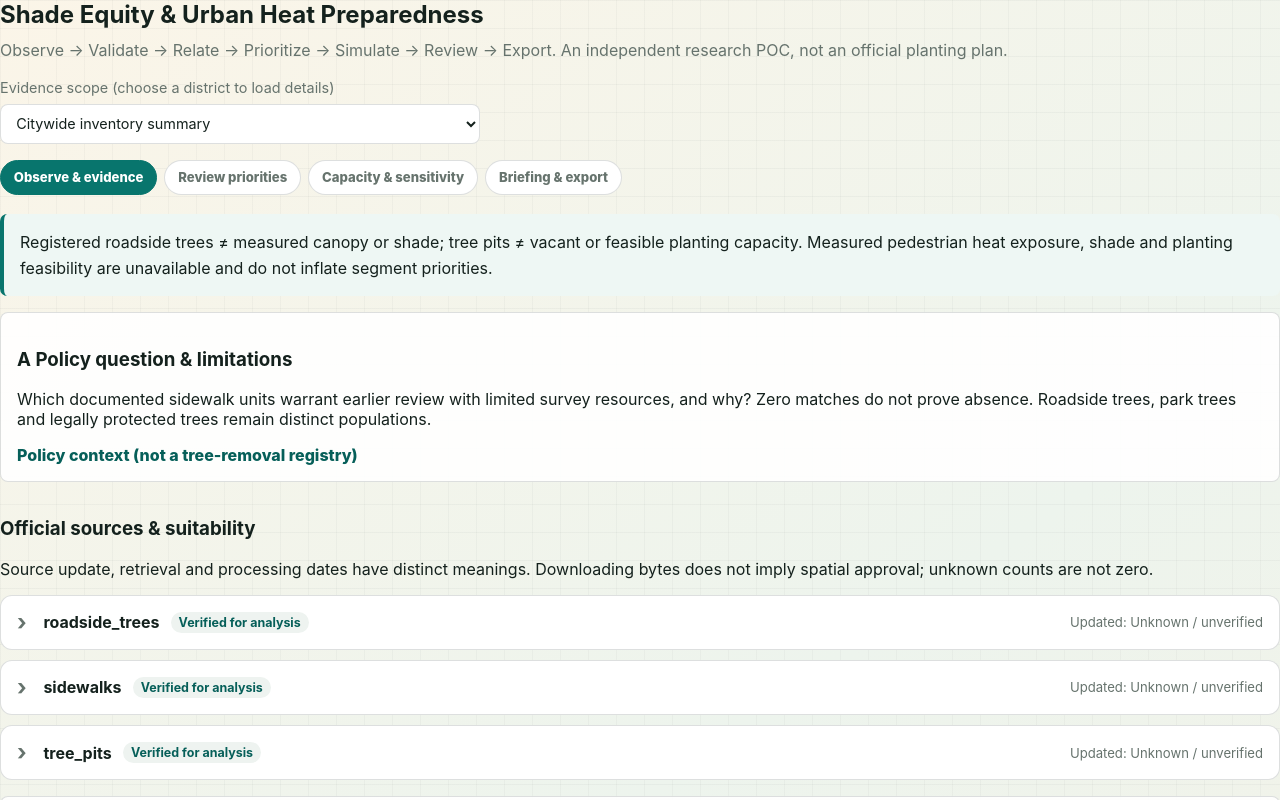
shade equity dashboard › shows ten review units after applying capacity ten
This screenshot has width=1280, height=800.
Click the button "Review priorities": (233, 177) [164,160,301,195]
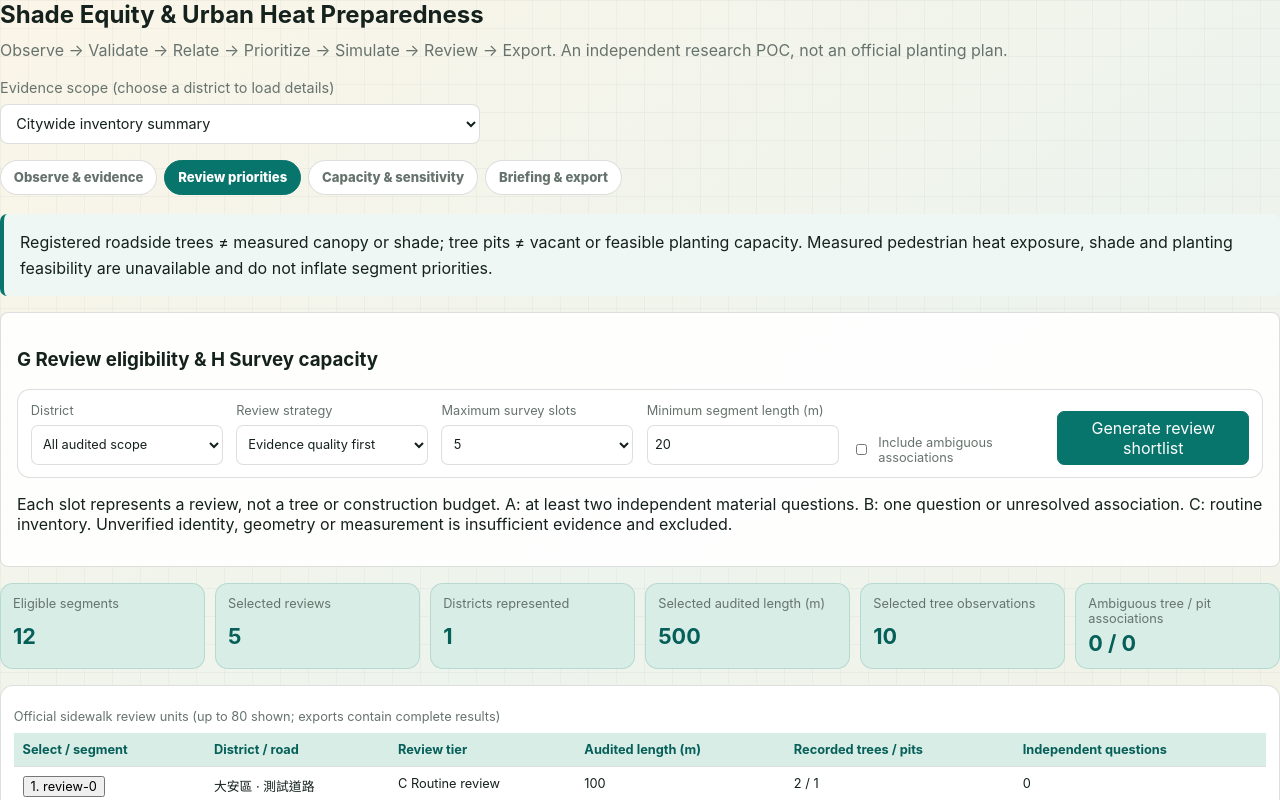
Select "10" in the dropdown labelled "Maximum survey slots": (537, 444) [442,424,633,464]
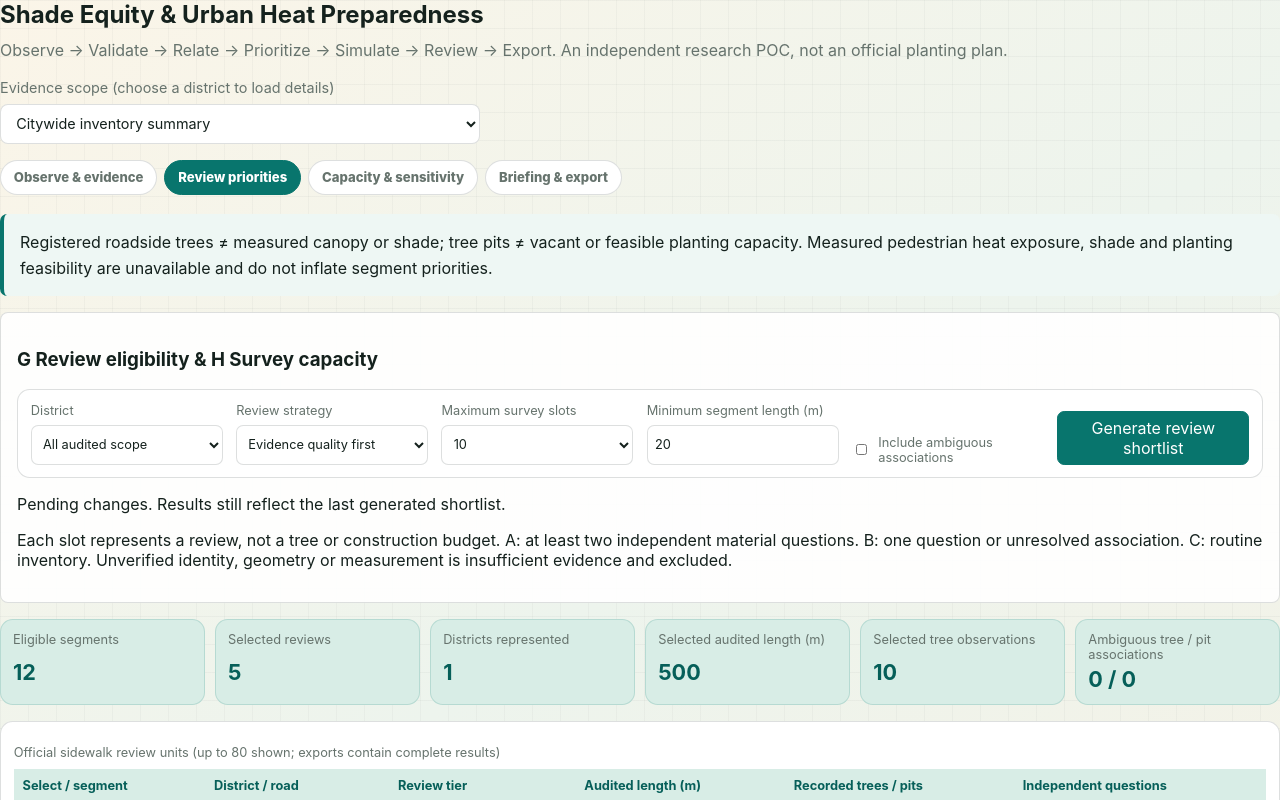
Click the button "Generate review shortlist": (1153, 438) [1058,411,1249,465]
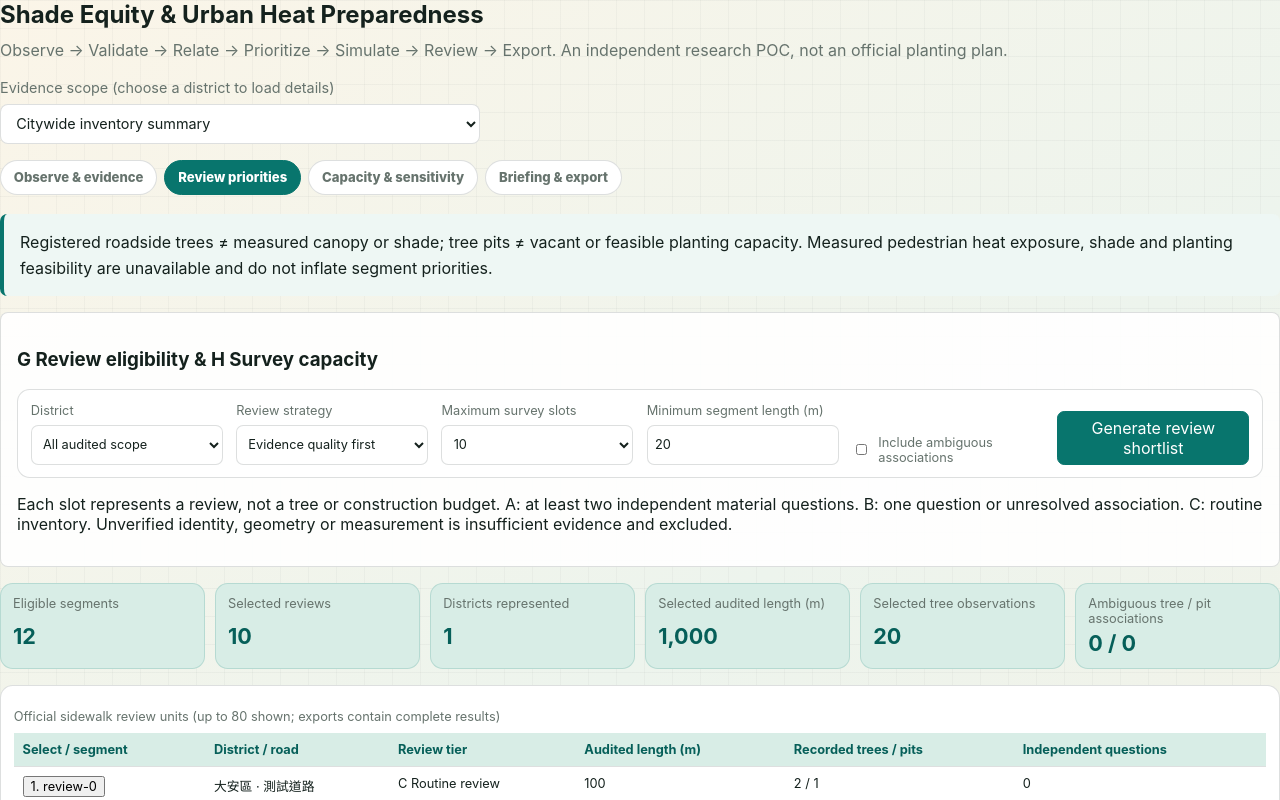
Now the number of buttons "1. review-0" is 10
